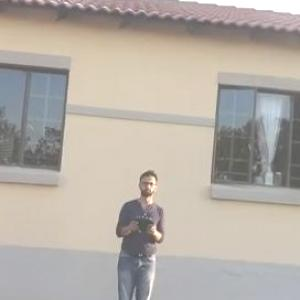follow: (108, 162, 168, 299)
